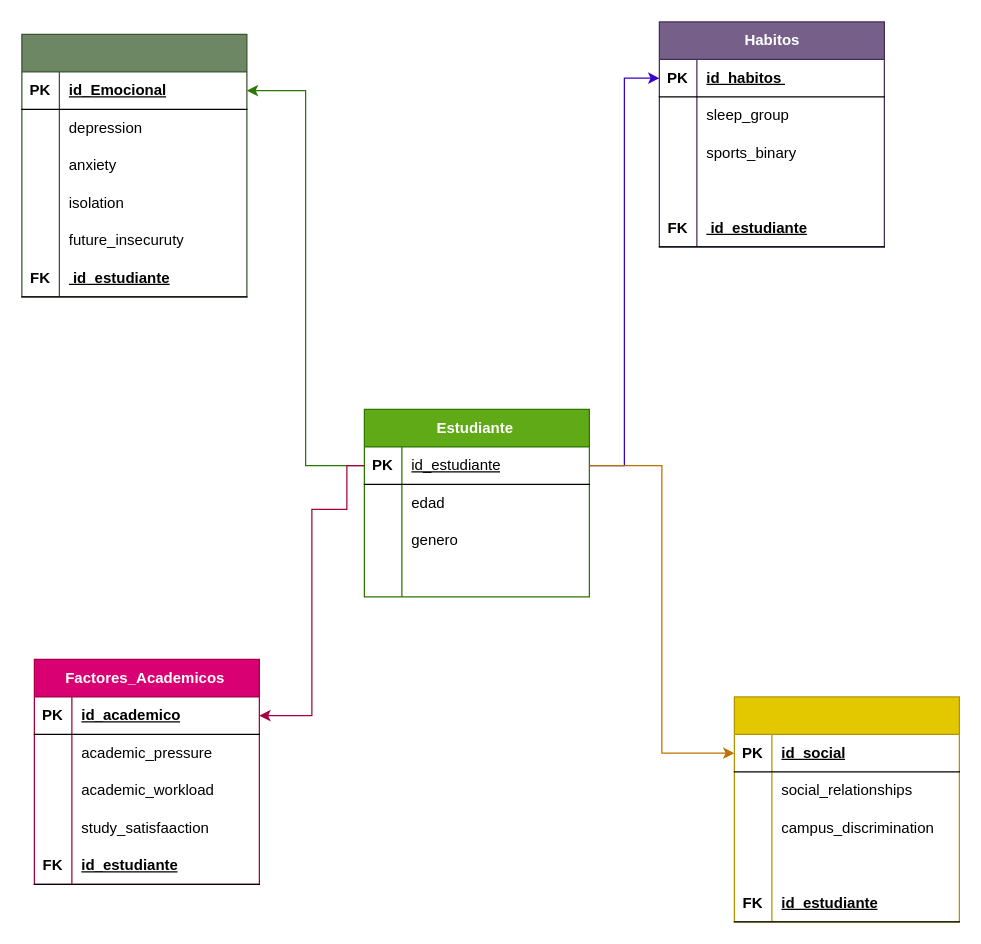
Some shapes in this 981 by 944 pixel diagram are drawn without their labels. The shapes that lost their labels are listed below. From the top down, each one's box as (x1, y1, x2, y2) in pixels, then its label:
(21, 33, 247, 297): Estado_Emocional
(733, 696, 959, 922): Contecto_Social
